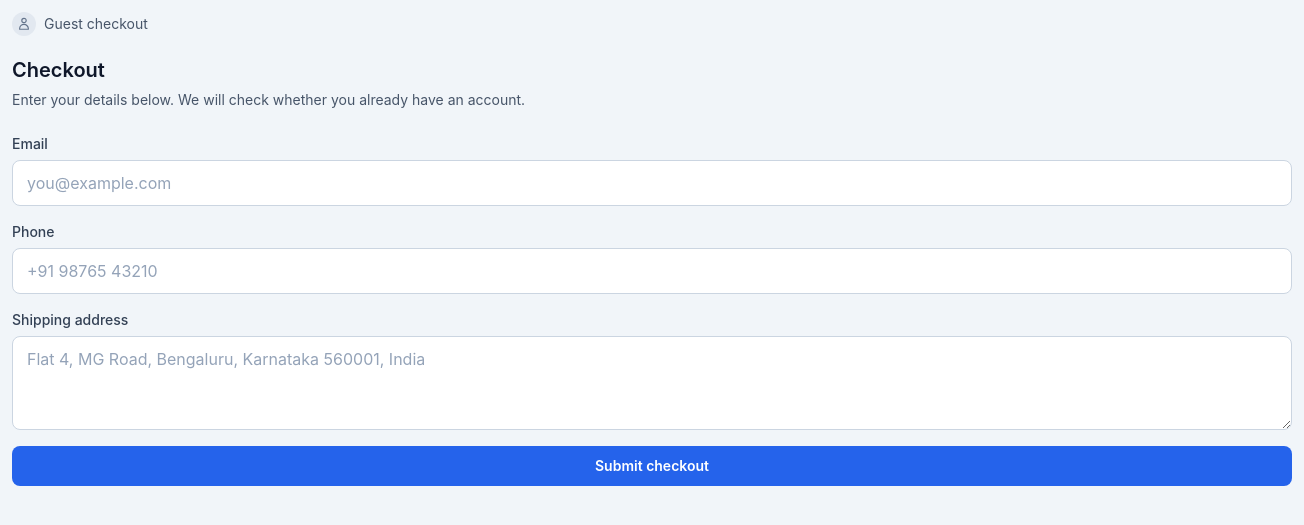
Test: CheckoutForm › shows a "Checking account..." status while recognition is in flight
Type "vijay@example.com" into the field labelled "Email".
click(652, 183); type("vijay@example.com")  # box x1=12 y1=160 x2=1292 y2=206
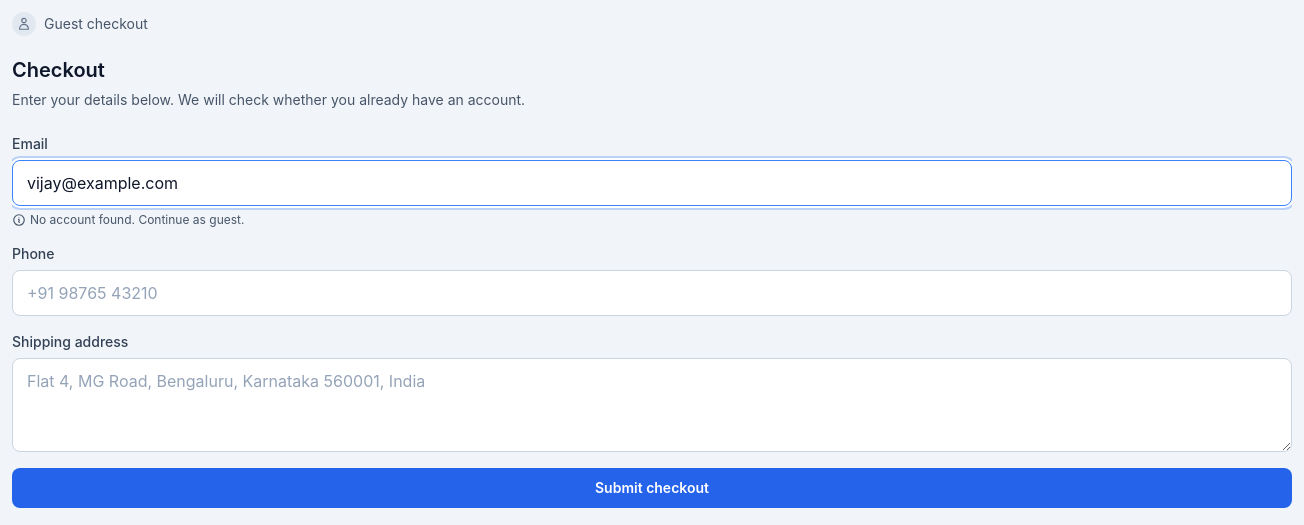
Expected: the text "checking account" is shown, x1=30 y1=212 x2=244 y2=228
